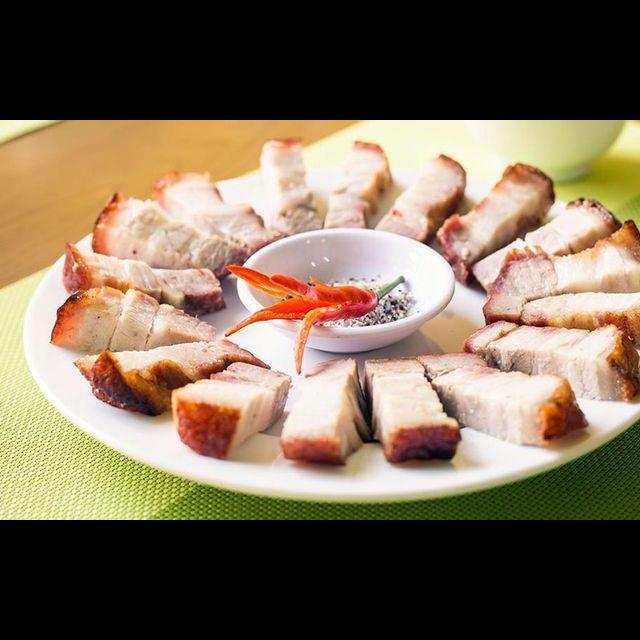thit heo quay: (413, 347, 593, 453), (71, 331, 275, 419), (432, 156, 561, 289), (87, 188, 251, 292), (461, 316, 640, 409), (467, 195, 628, 298), (147, 165, 293, 264), (57, 241, 232, 322), (168, 357, 296, 464), (357, 352, 465, 470), (47, 284, 218, 354), (277, 354, 379, 467), (370, 151, 470, 247), (531, 216, 640, 301), (513, 286, 640, 351), (319, 138, 396, 243), (479, 243, 564, 332), (255, 134, 325, 237)
